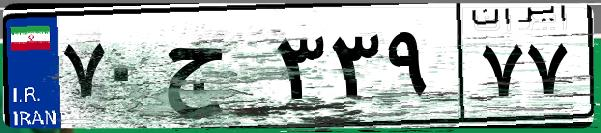0: (110, 28, 158, 98)
3: (270, 28, 330, 110), (330, 28, 385, 110)
7: (57, 26, 110, 100), (475, 38, 525, 113), (525, 38, 570, 115)
9: (385, 28, 445, 110)
ج: (158, 20, 270, 120)
